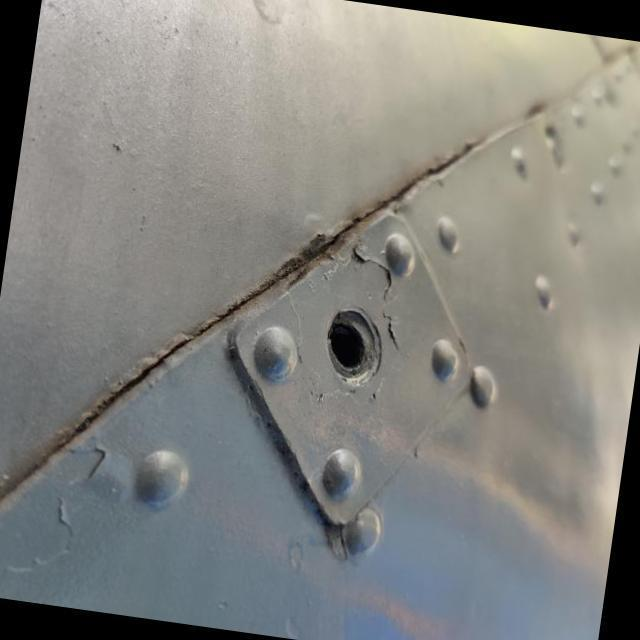Fastener Damage: (273, 268, 441, 430)
